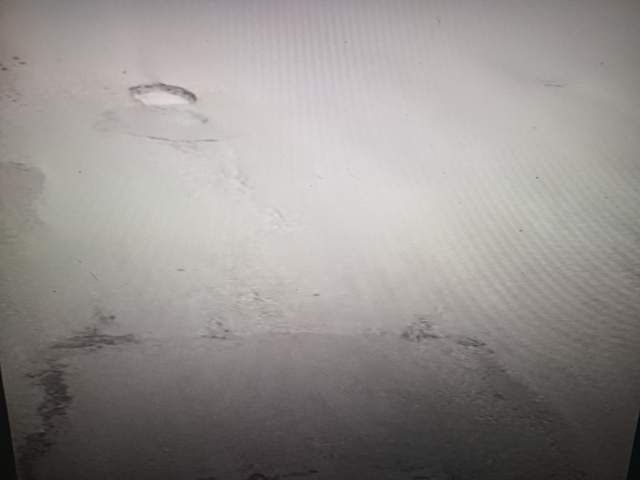pothole: (108, 404, 322, 480)
